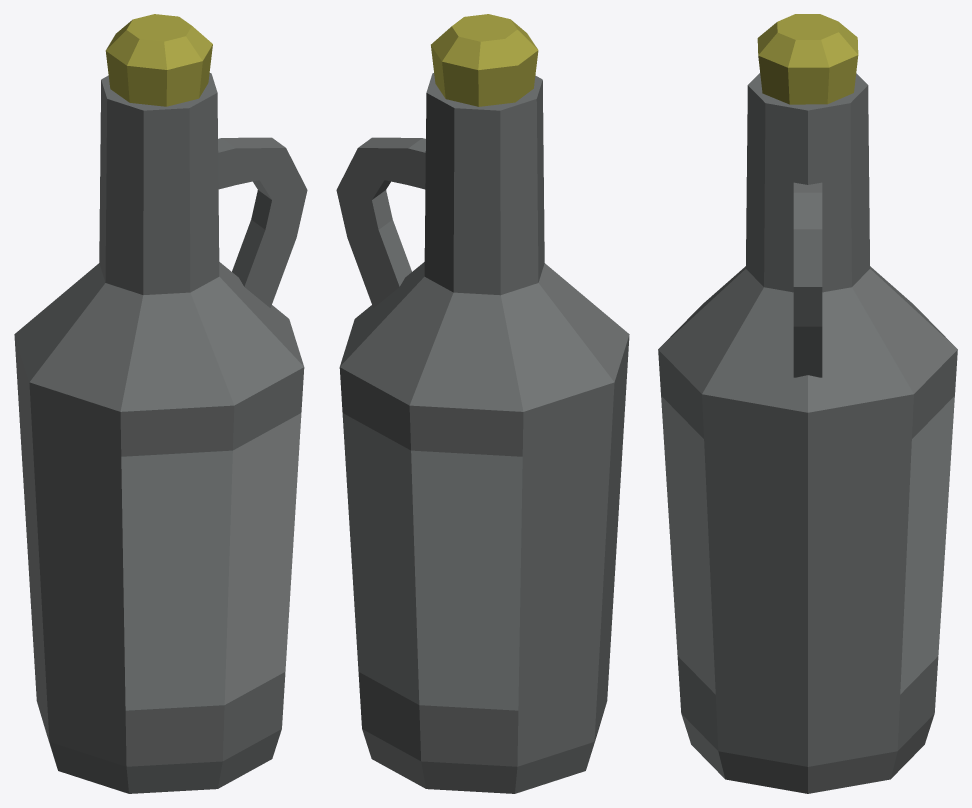
The model's file is Bottle_5_Gray.fbx.
3 renders of one model, left to right at view 1: azimuth 30°, elevation 25°; view 2: azimuth 150°, elevation 25°; view 3: azimuth 270°, elevation 25°, orthographic.
Parts seen in each view (by area): view 1: Bottle_5_Gray_Part_1, Bottle_5_Gray_Part_2, Bottle_5_Gray_Part_3; view 2: Bottle_5_Gray_Part_1, Bottle_5_Gray_Part_2, Bottle_5_Gray_Part_3; view 3: Bottle_5_Gray_Part_1, Bottle_5_Gray_Part_2, Bottle_5_Gray_Part_3.
Boxes of the visible parts, <box> form: Bottle_5_Gray_Part_1: <box>14,73,307,793</box>; Bottle_5_Gray_Part_2: <box>121,413,301,710</box>; Bottle_5_Gray_Part_3: <box>105,14,212,106</box>; Bottle_5_Gray_Part_1: <box>336,73,629,793</box>; Bottle_5_Gray_Part_2: <box>342,413,522,710</box>; Bottle_5_Gray_Part_3: <box>431,14,538,106</box>; Bottle_5_Gray_Part_1: <box>658,73,957,793</box>; Bottle_5_Gray_Part_2: <box>661,396,954,694</box>; Bottle_5_Gray_Part_3: <box>757,14,858,104</box>.
Size of the model in its own units: 12.08 by 30.59 by 11.58.
